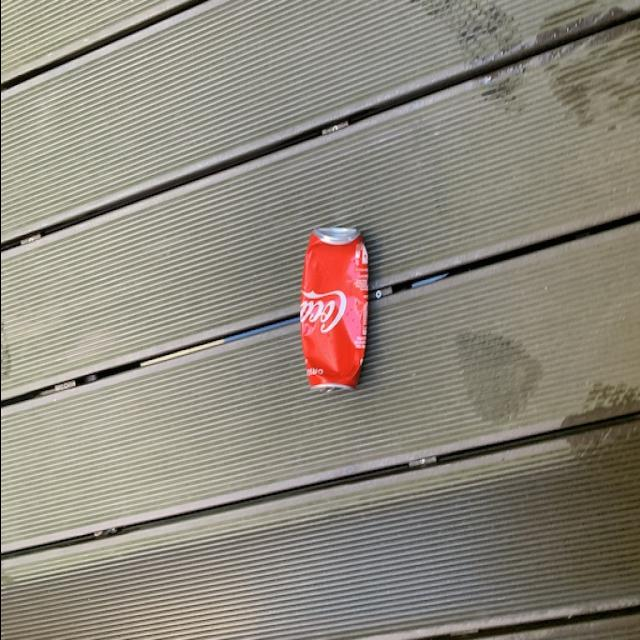litter: (300, 215, 370, 397)
